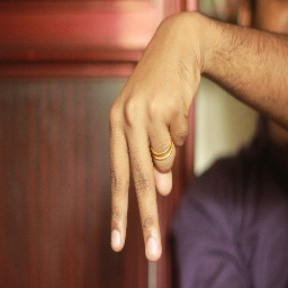Y: (103, 65, 191, 264)
